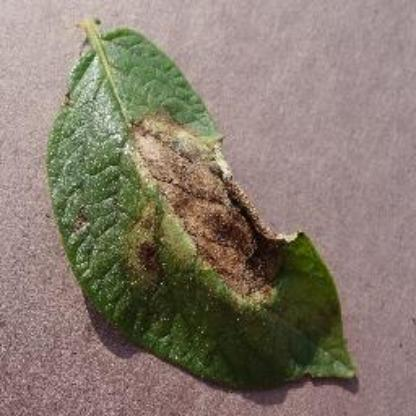Late-Blight: (39, 13, 367, 392)
